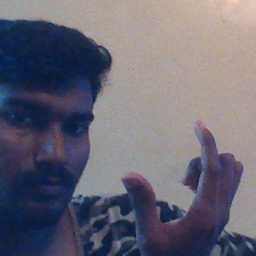U: (115, 120, 245, 256)
